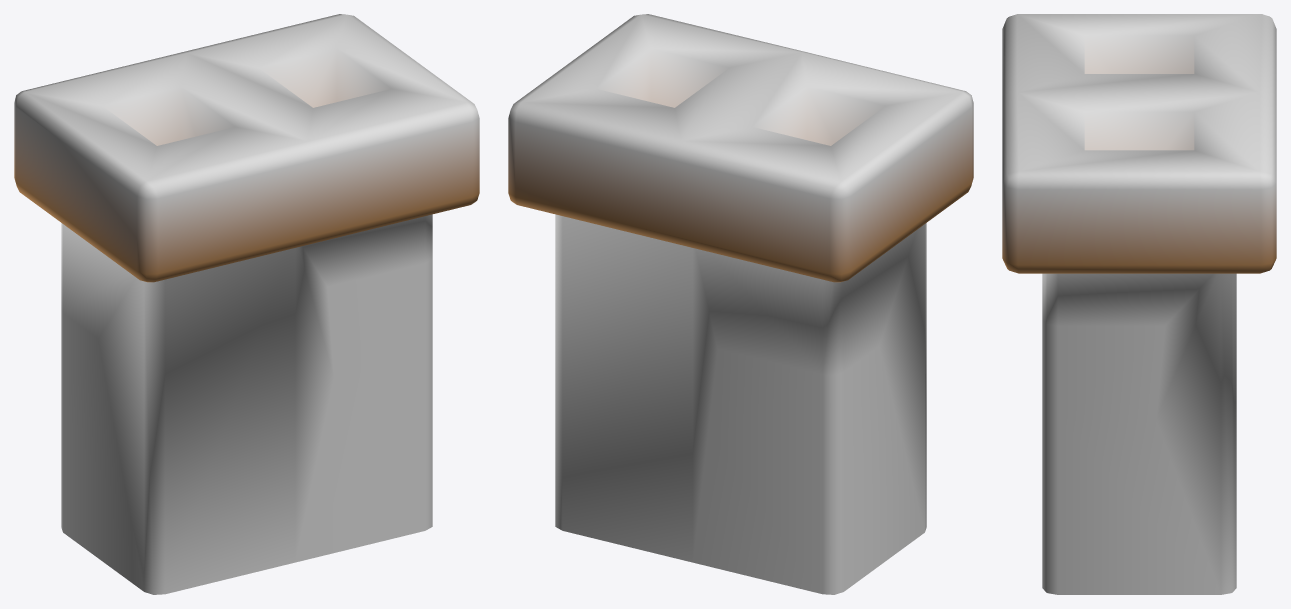
The model's file is Prop_016.fbx.
The picture shows the model from 3 angles, left to right: view 1: azimuth 30°, elevation 25°; view 2: azimuth 150°, elevation 25°; view 3: azimuth 270°, elevation 25°; orthographic projection.
Parts seen in each view (by area): view 1: Prop_016; view 2: Prop_016; view 3: Prop_016.
Part boxes in pixels (box(x1,y1,x2,y2)): Prop_016: box(14, 14, 479, 594); Prop_016: box(508, 14, 973, 594); Prop_016: box(1002, 14, 1276, 594).
Size of the model in its own units: 191 by 133 by 230.
